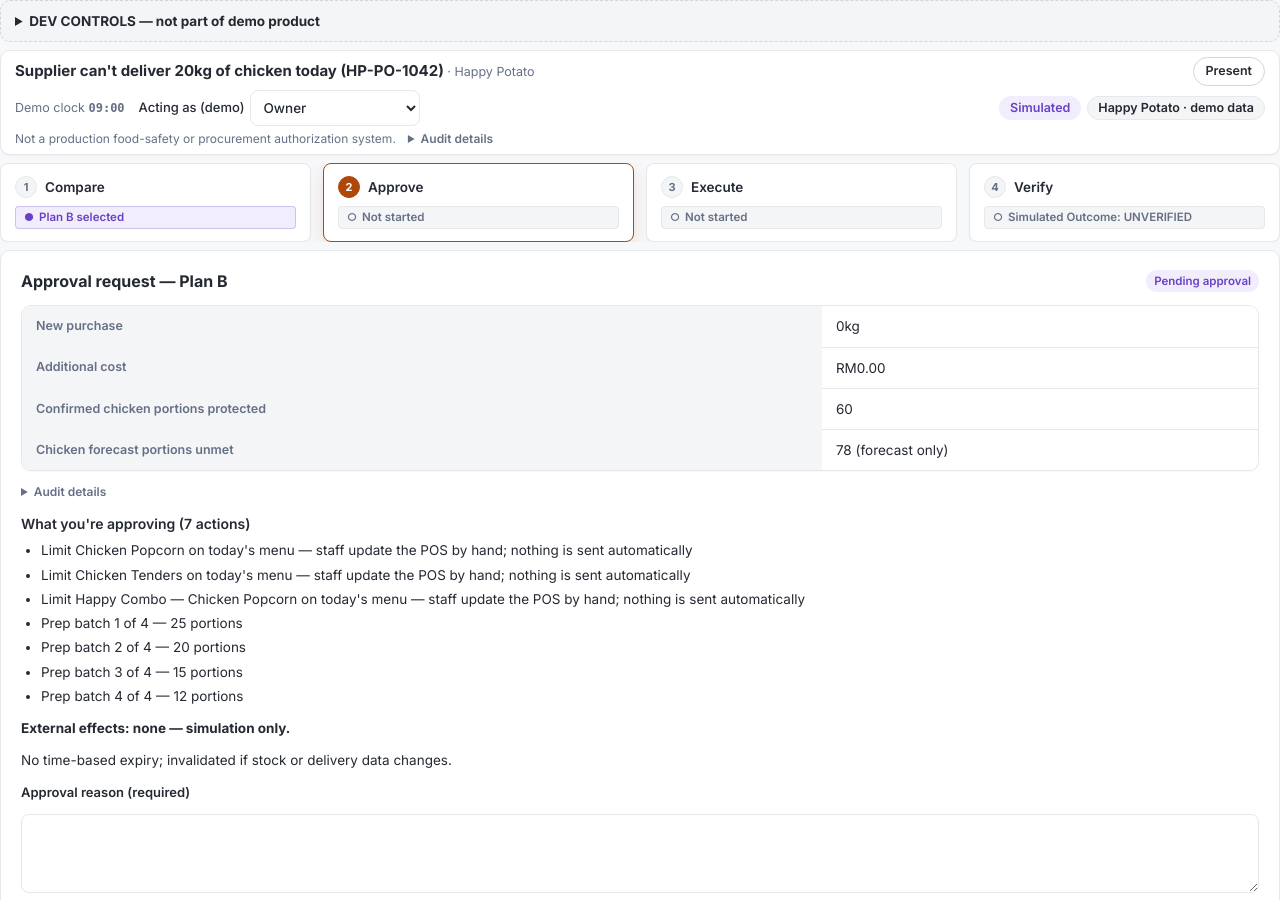
Scenario: Approvals › Owner approves Plan B → one approval, 7 tasks, not executed (P5-T05)
The image size is (1280, 900).
In the text box: (640, 854) [21,814,1259,893], type "Protect confirmed orders"
(page scrolled)
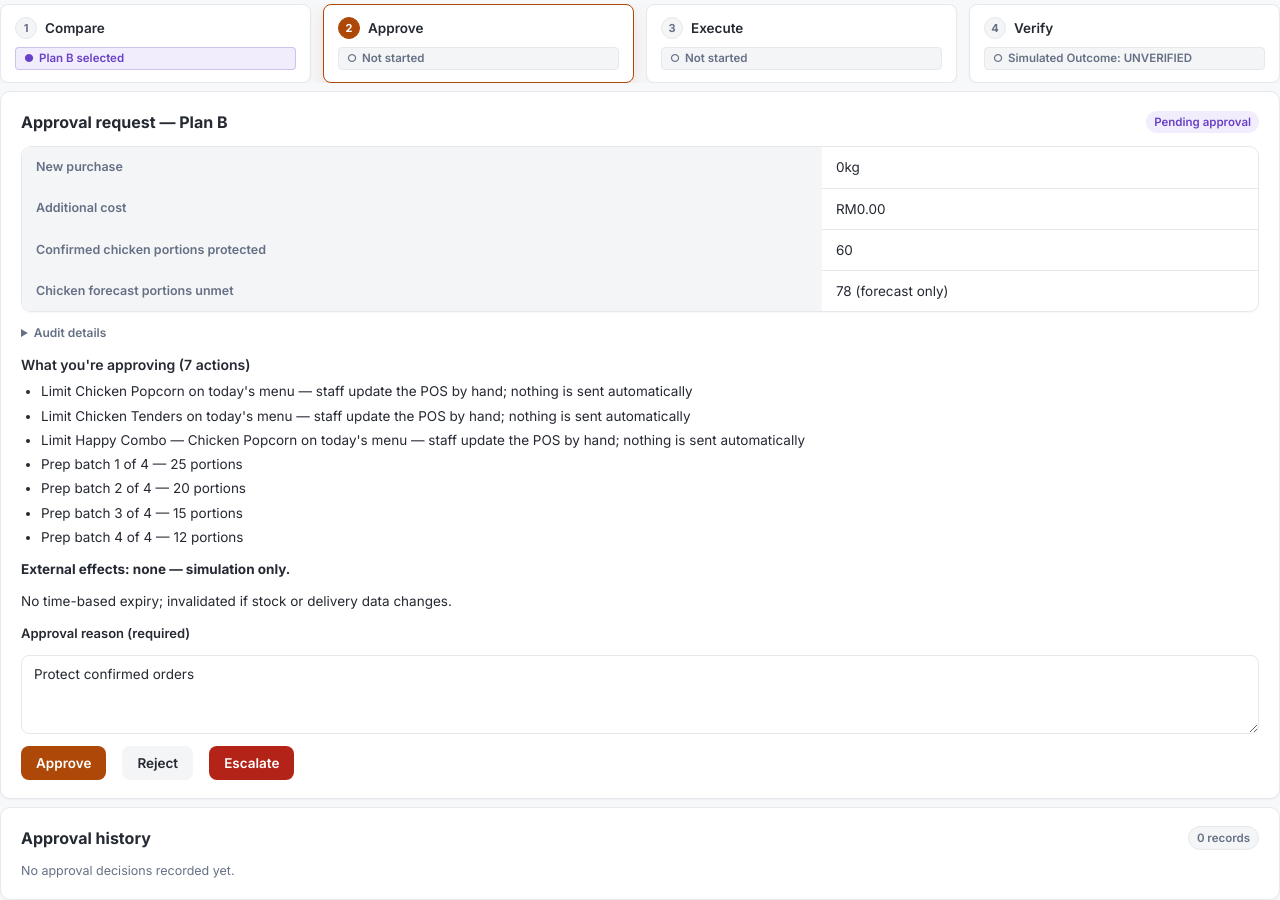
Click the button "Approve": (64, 763) [21,746,106,780]
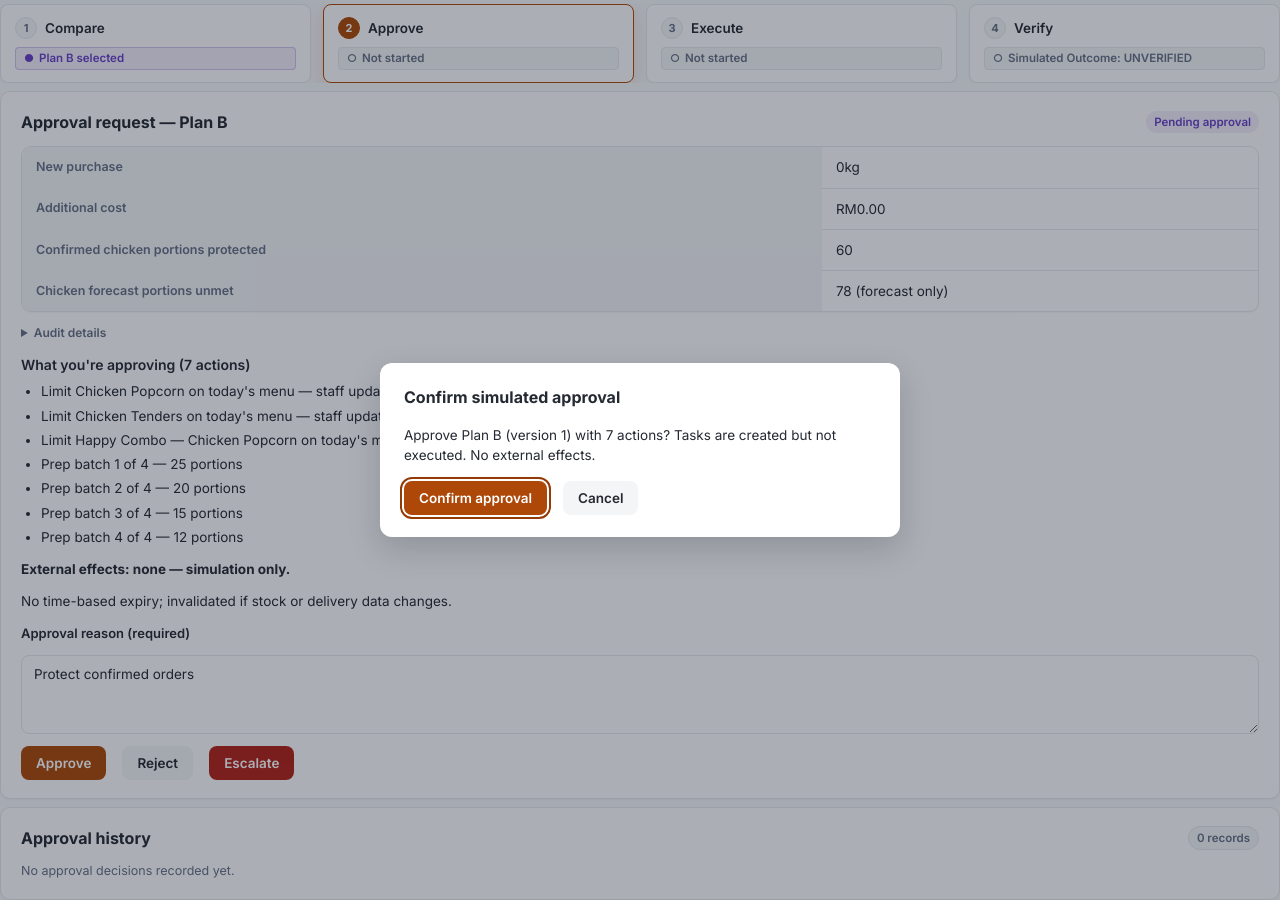
Click the button "Confirm approval": (476, 498) [404,481,547,515]
(page scrolled)
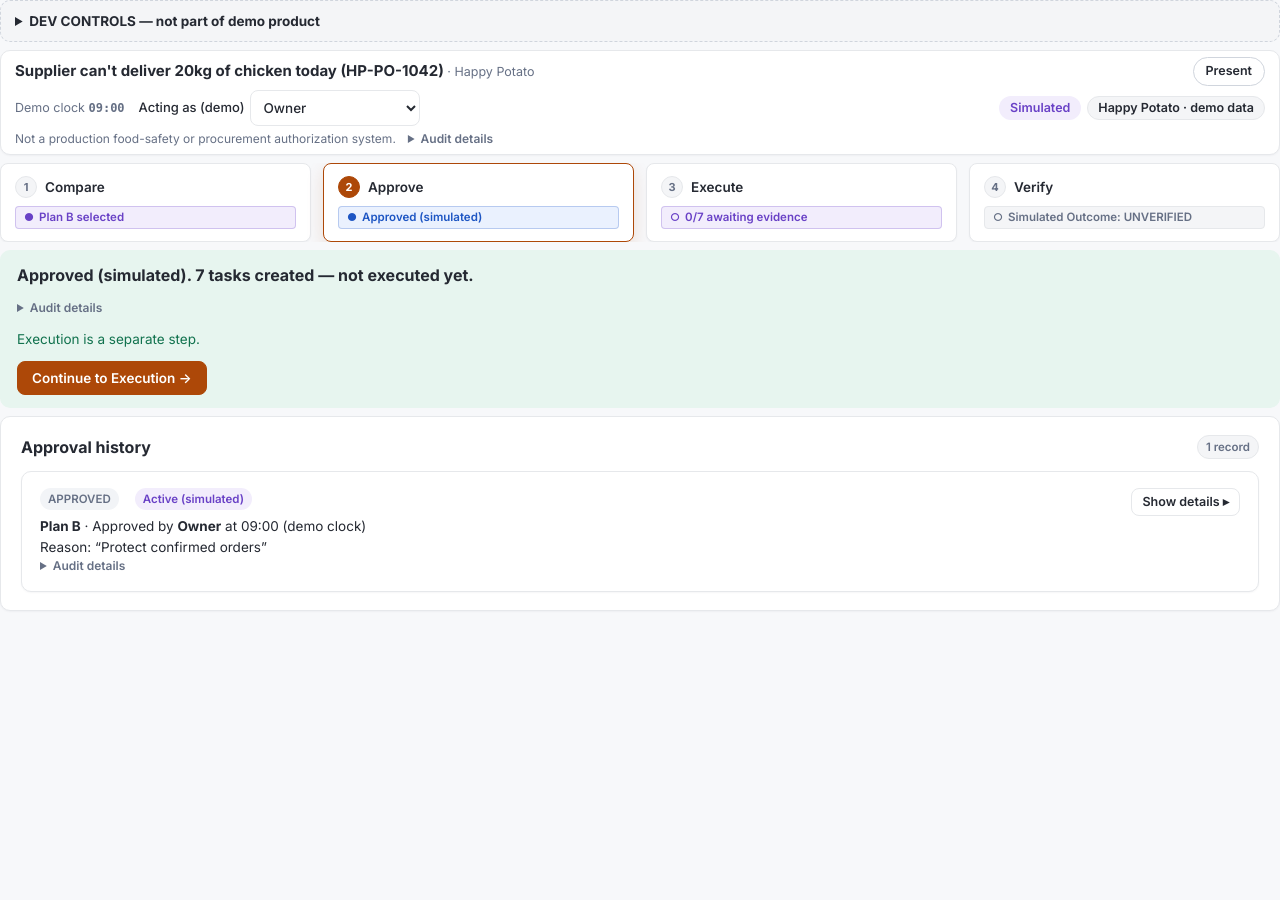
Now the element with test id "approval-success" shows "Approved (simulated). 7 tasks created — not executed yet.", box [0,250,1279,408]
Now the link to "/execution" is shown, box [17,361,207,396]
